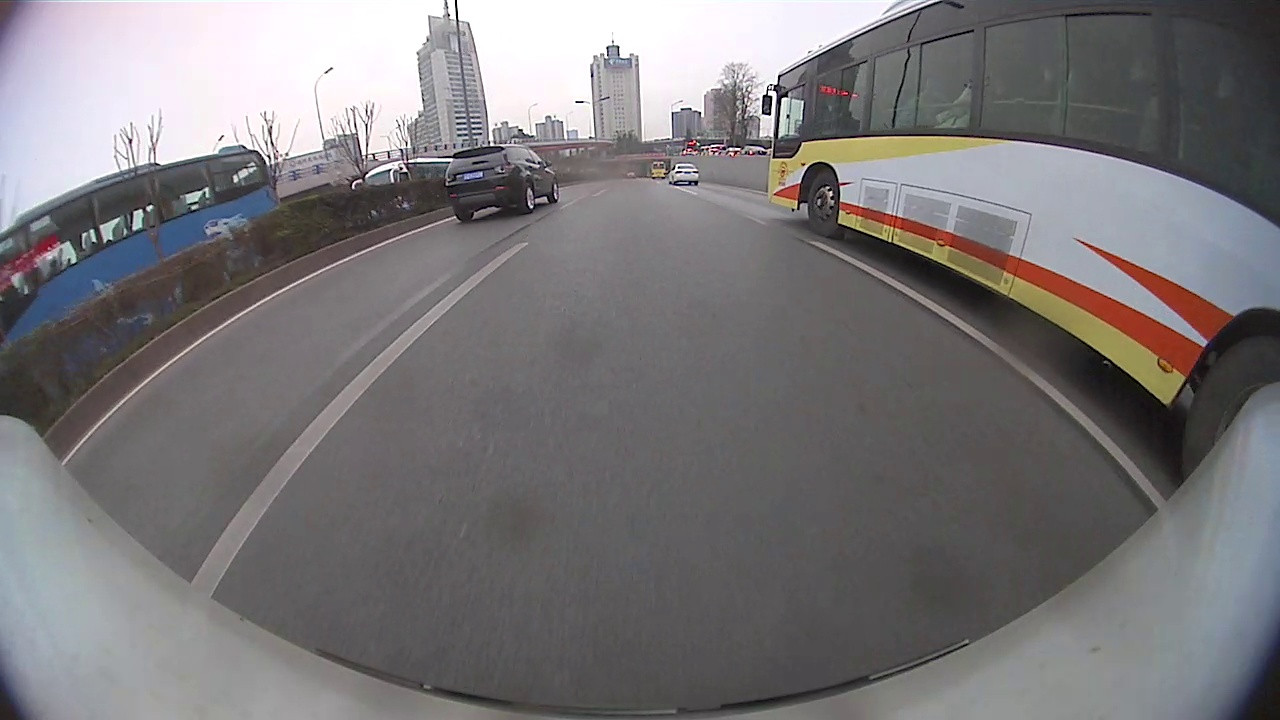bus: (759, 1, 1279, 485), (2, 143, 281, 353), (350, 157, 456, 185)
car: (444, 143, 562, 223), (665, 160, 703, 188)
front: (805, 172, 842, 238), (548, 181, 563, 204)
rear: (521, 185, 536, 217)
